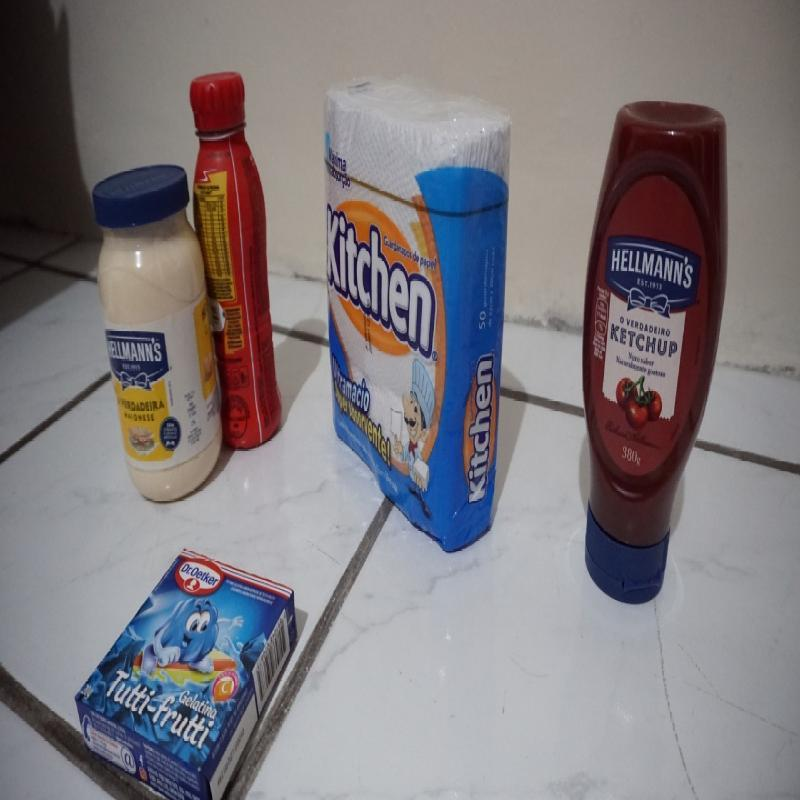Chocolate Milk: (188, 70, 285, 452)
Gelatine: (72, 544, 302, 800)
Ketchup: (582, 102, 729, 614)
Mayonnaise: (93, 164, 223, 506)
Napkin: (320, 67, 519, 555)
